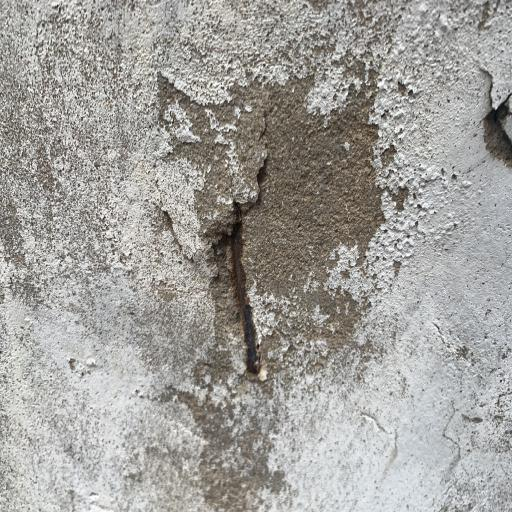exposed_rebar: (231, 203, 260, 373)
